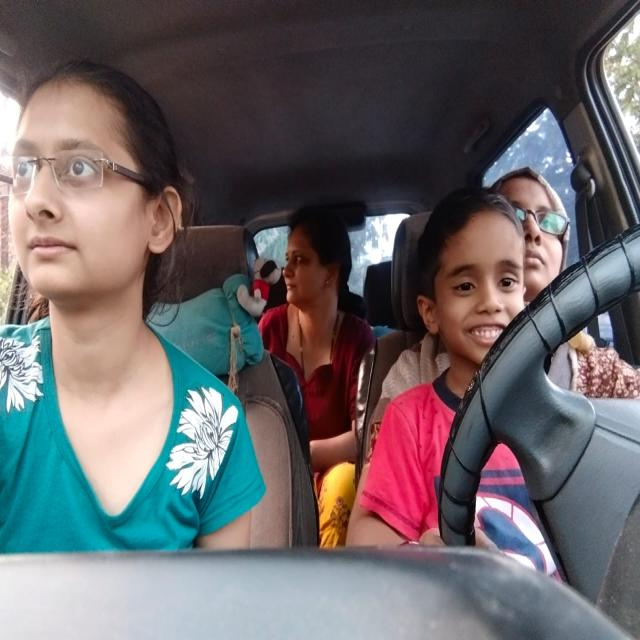child: (409, 182, 532, 369)
person: (5, 54, 187, 306), (502, 160, 574, 284), (282, 209, 356, 320)
